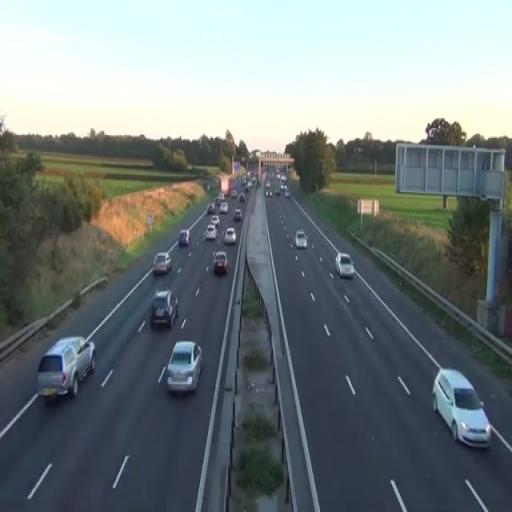Car: (432, 368, 492, 450), (37, 336, 97, 402), (166, 340, 203, 394), (150, 289, 179, 330), (334, 252, 354, 278), (152, 252, 173, 276), (213, 250, 229, 274), (294, 230, 308, 250), (179, 228, 192, 247), (204, 224, 218, 241), (224, 227, 236, 245)
